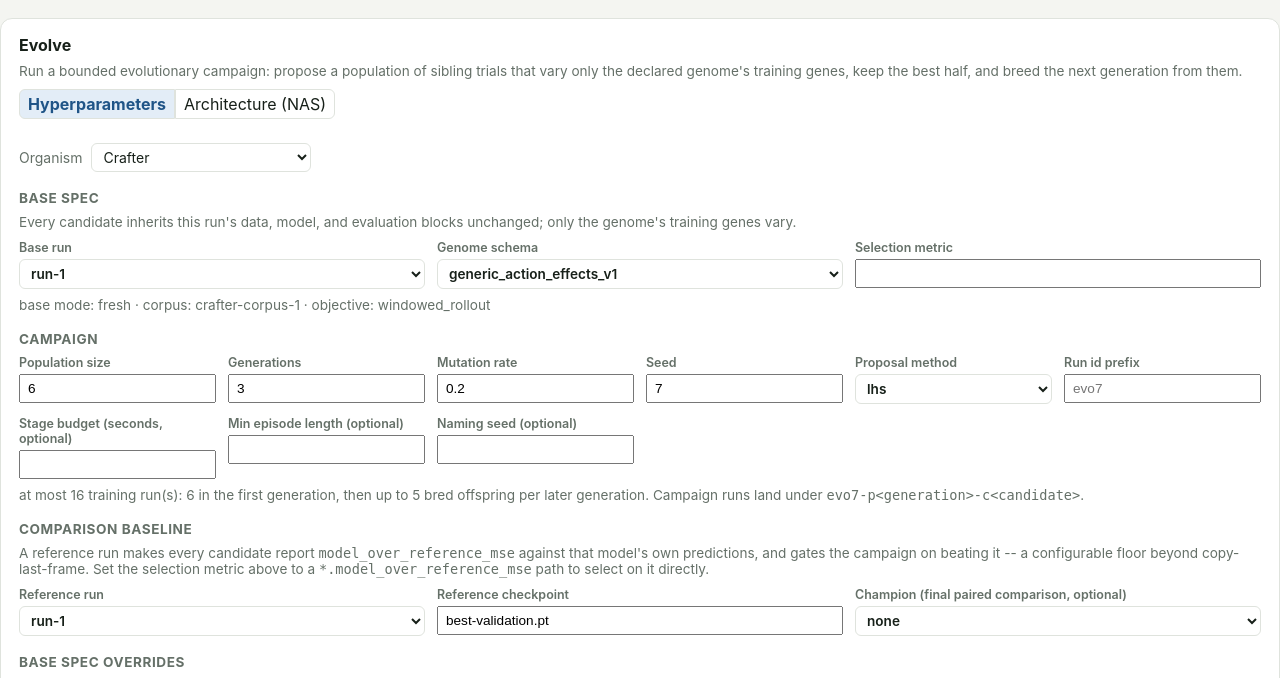
Test: EvolvePanel › launches through /api/jobs/search and opens the population board on the campaign's prefix
The width and height of the screenshot is (1280, 678).
Expected: the dropdown labelled "Base run" shows "run-1", [19,259,425,289]
Replace the text in the number field labelled "Population size" with "4" at (118, 388), box [19,374,216,403]
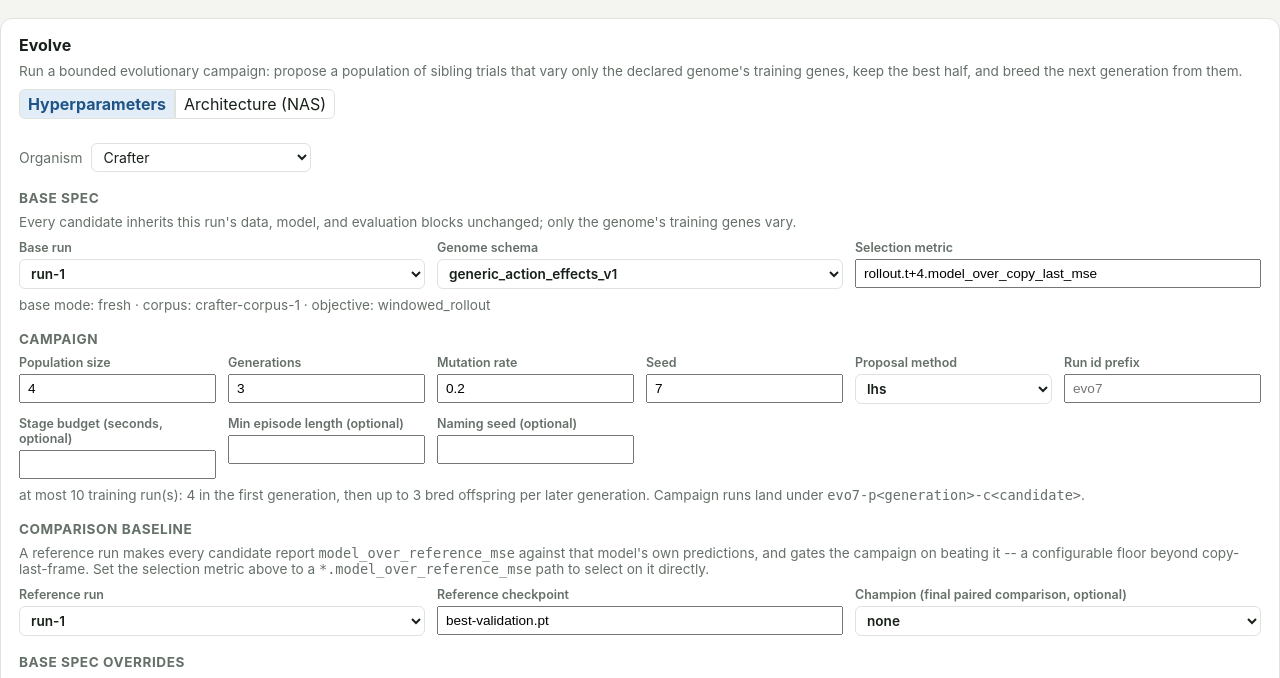
Replace the text in the number field labelled "Generations" with "2" at (326, 388), box [228,374,425,403]
(page scrolled)
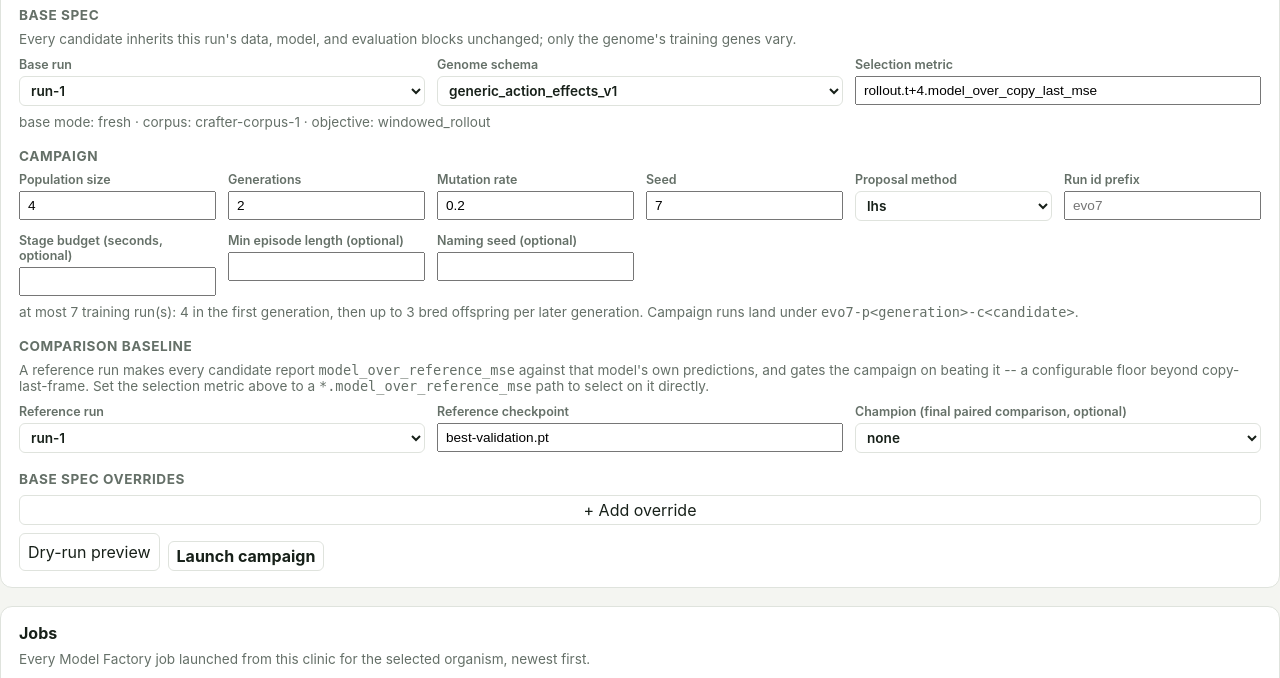
Click the button "Launch campaign" at (246, 556), box [168,541,324,571]
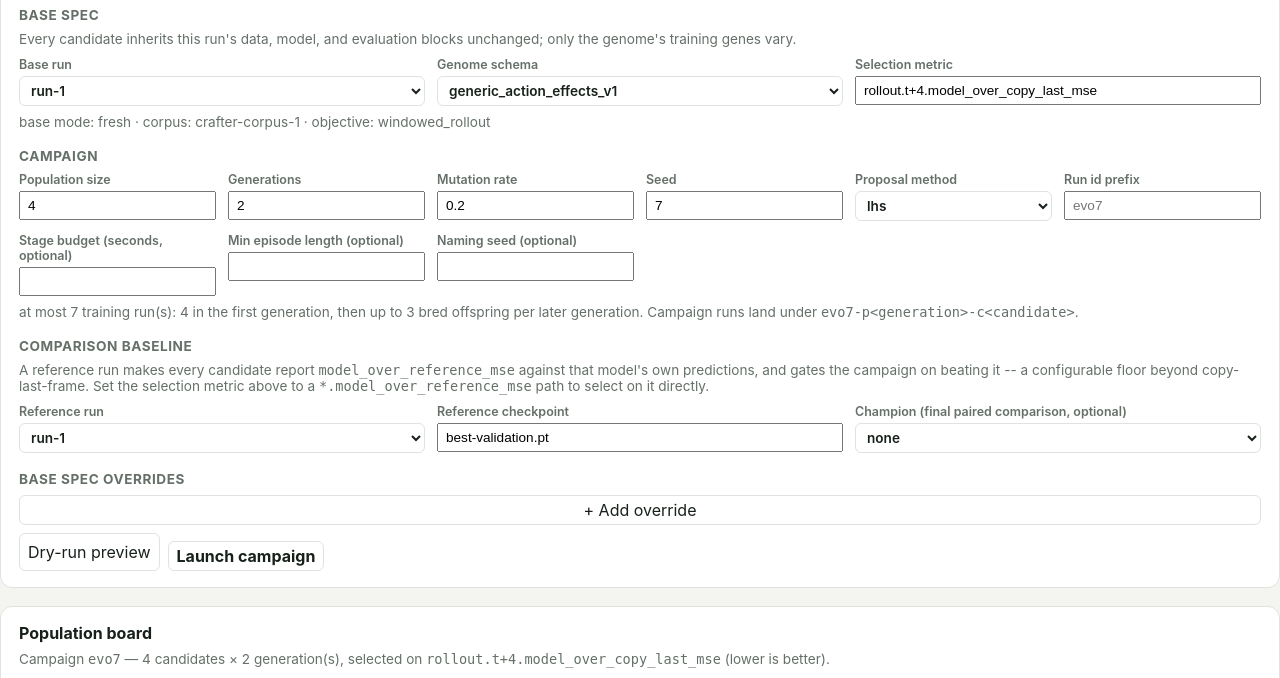
Now the heading "Population board" is shown, box [19,623,152,643]
Now the text "4 candidates × 2 generation(s)" is shown, box [19,651,830,667]
